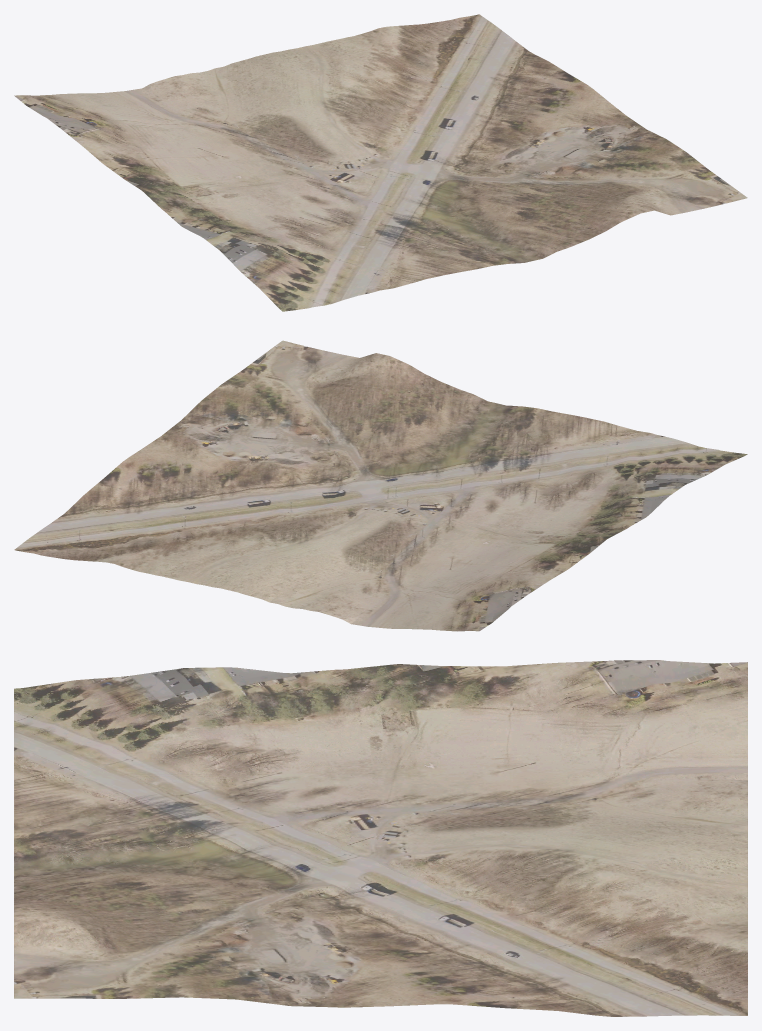
The model's file is CM_Terrain_24492711_6817336.fbx.
3 renders of one model, top to bottom at view 1: azimuth 30°, elevation 25°; view 2: azimuth 150°, elevation 25°; view 3: azimuth 270°, elevation 25°, orthographic. The views are drawn at different scales.
Visible parts, largest first — view 1: CM_Terrain_24492711_6817336_LOD0; view 2: CM_Terrain_24492711_6817336_LOD0; view 3: CM_Terrain_24492711_6817336_LOD0.
Part boxes in pixels (<box>): CM_Terrain_24492711_6817336_LOD0: <box>14,14,747,311</box>; CM_Terrain_24492711_6817336_LOD0: <box>14,340,747,631</box>; CM_Terrain_24492711_6817336_LOD0: <box>14,660,747,1016</box>.
Size of what is drawn, in the model's own units: 205 by 14.46 by 205.
